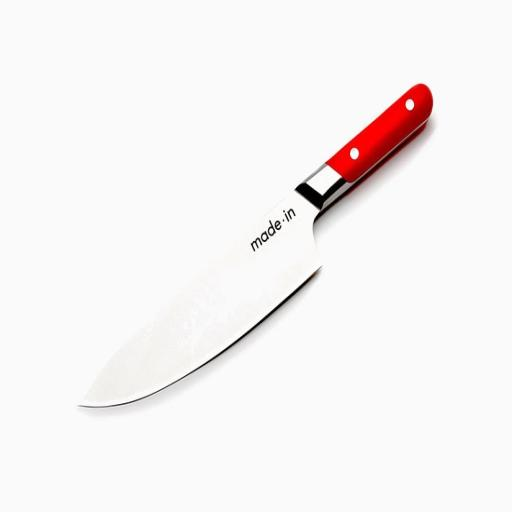knife: (74, 78, 442, 424)
